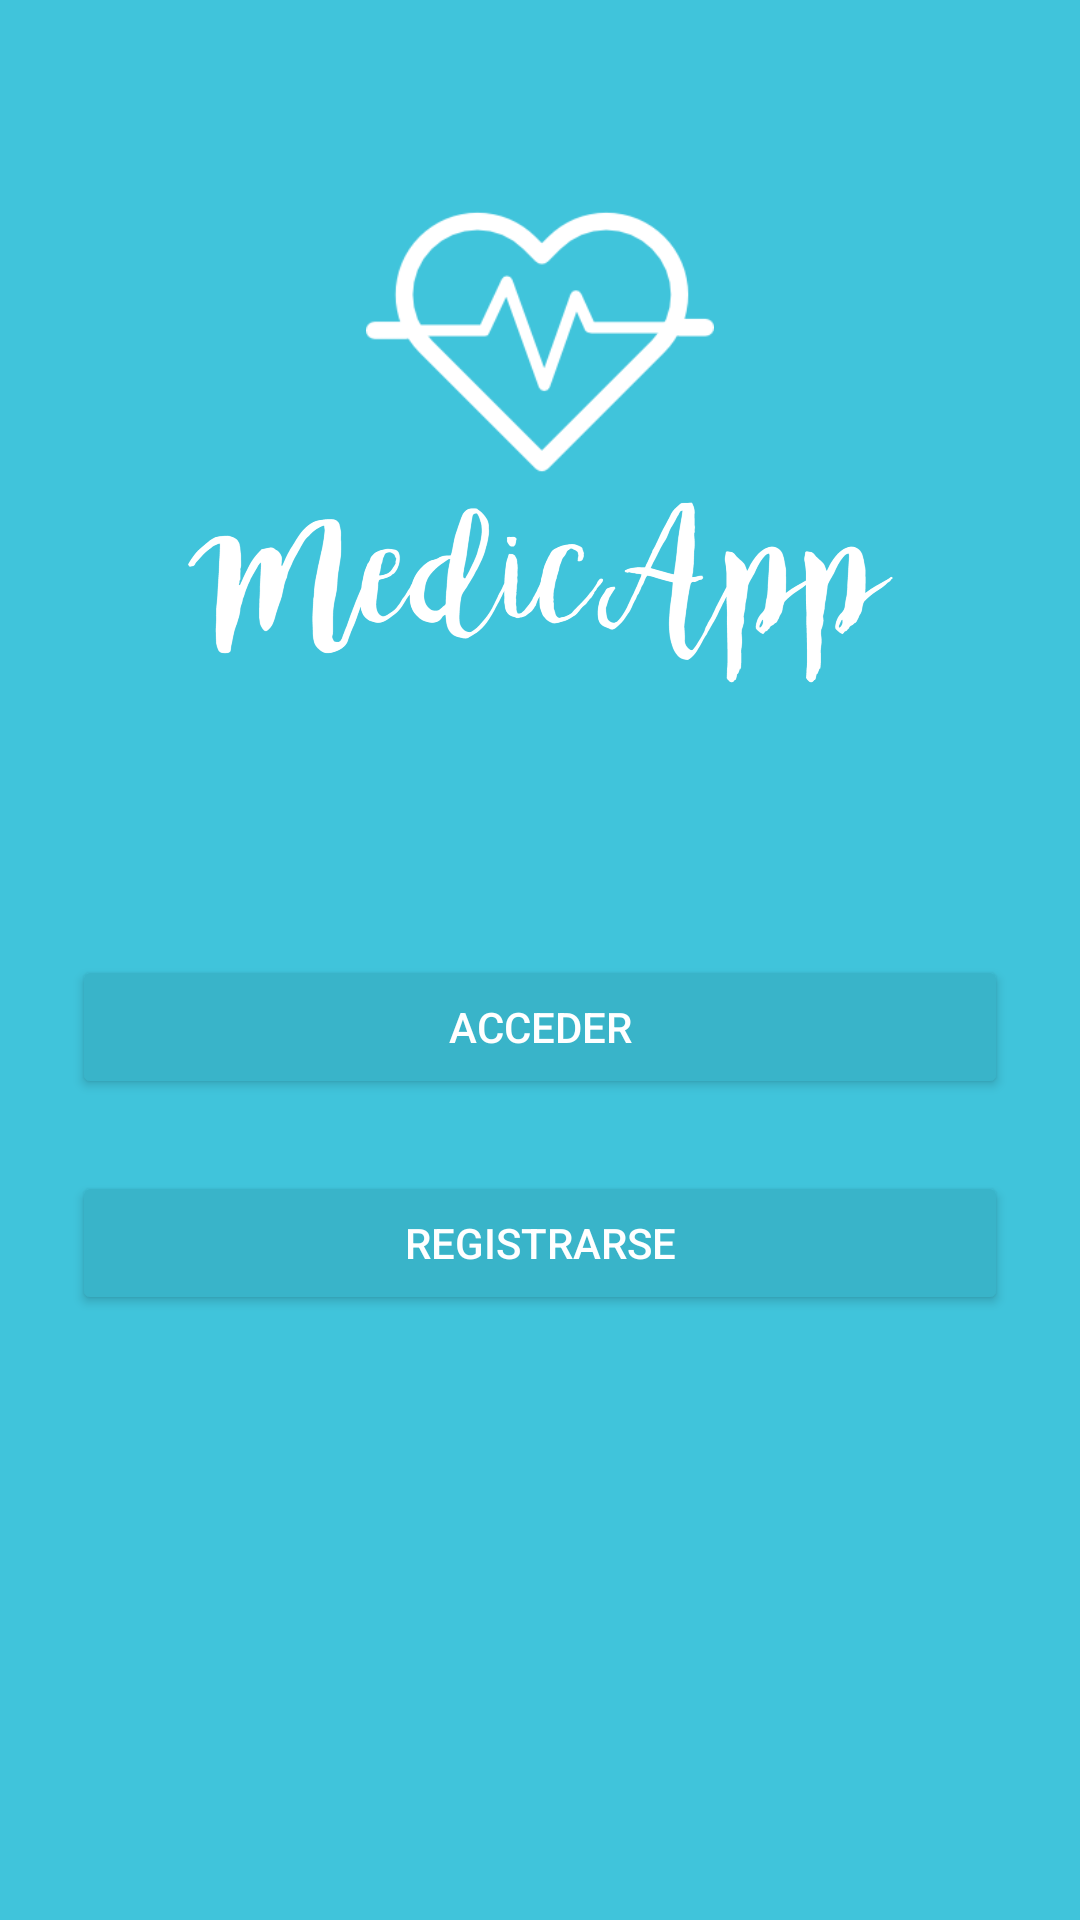

Icons on this 1080w x 1920h Android screen, each with its box as (x1, y1, x2, y2):
heartbeat: (366, 212, 714, 472)
